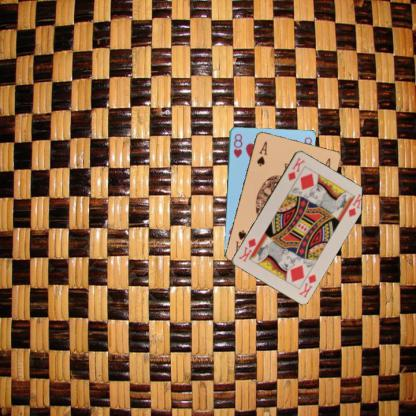8h: (231, 131, 243, 159)
As: (254, 139, 268, 167)
Kd: (297, 272, 318, 298), (286, 155, 306, 182)
